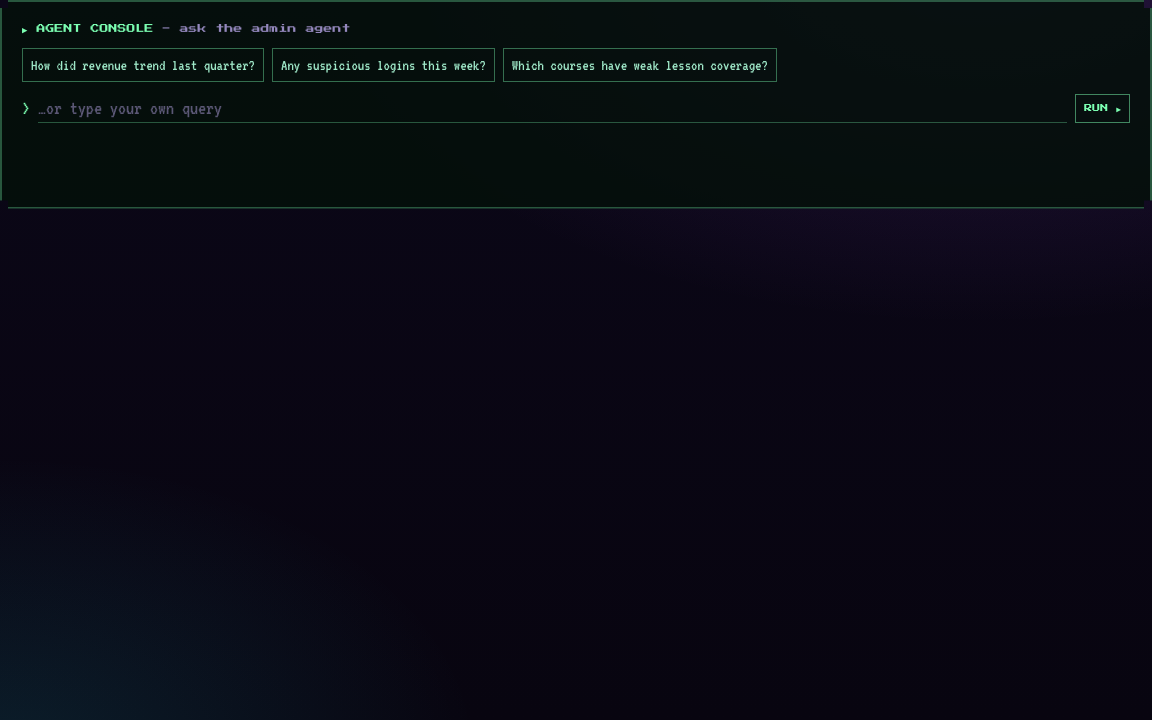
routes a preset query to a tool and shows the (illustrative) result
Click the button "How did revenue trend last quarter?" at (143, 64), box x1=22 y1=48 x2=264 y2=82
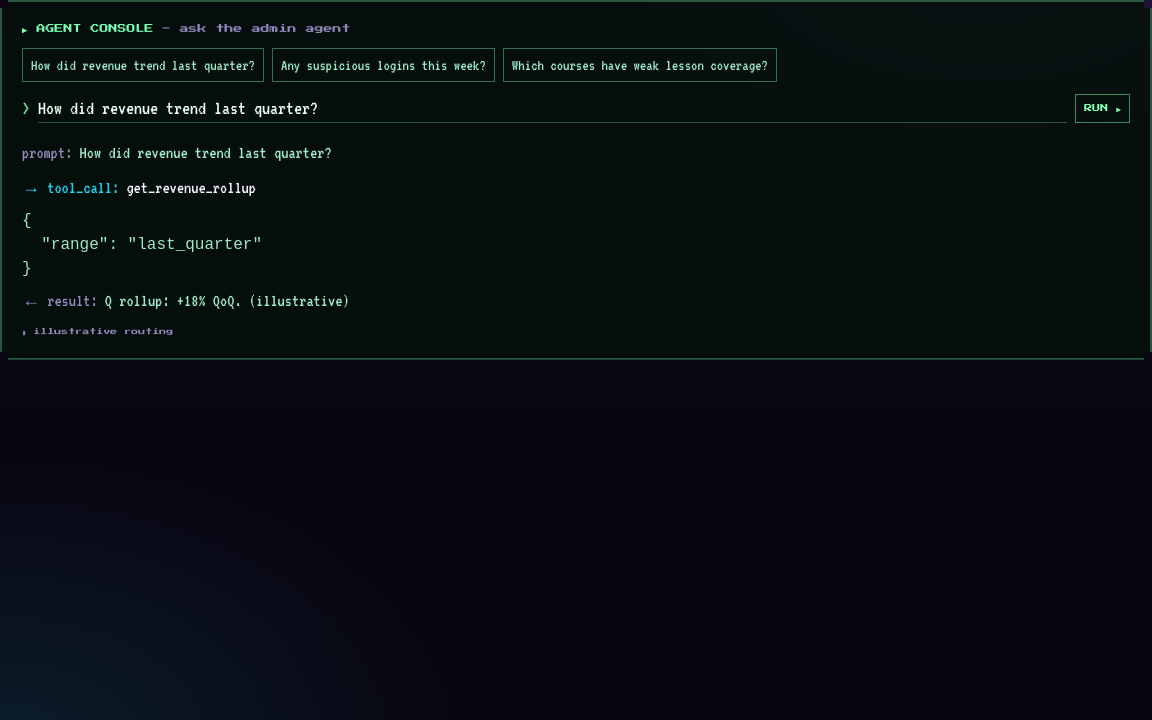
Now the text "get_revenue_rollup" is shown, box x1=126 y1=179 x2=256 y2=197
Now the text "← result: Q rollup: +18% QoQ. (illustrative)" is shown, box x1=22 y1=292 x2=350 y2=310
